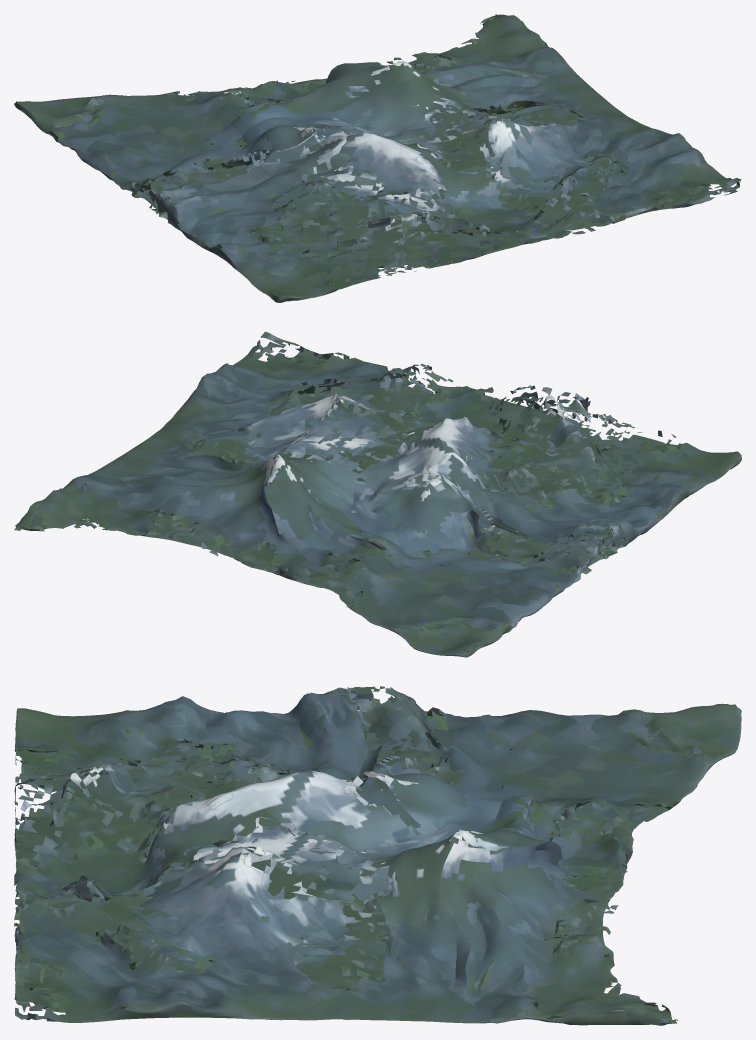
The model's file is meadows_mountain_backdrop.glb.
3 renders of one model, top to bottom at view 1: azimuth 30°, elevation 25°; view 2: azimuth 150°, elevation 25°; view 3: azimuth 270°, elevation 25°, orthographic. The views are drawn at different scales.
Visible parts, largest first — view 1: Mesh_0; view 2: Mesh_0; view 3: Mesh_0.
Boxes of the visible parts, left/top/right/bottom form: Mesh_0: left=14, top=14, right=741, bottom=302; Mesh_0: left=14, top=331, right=741, bottom=657; Mesh_0: left=14, top=686, right=741, bottom=1025.
Size of the model in its own units: 1.9 by 0.2255 by 1.9.
1 material, 1 textured.
